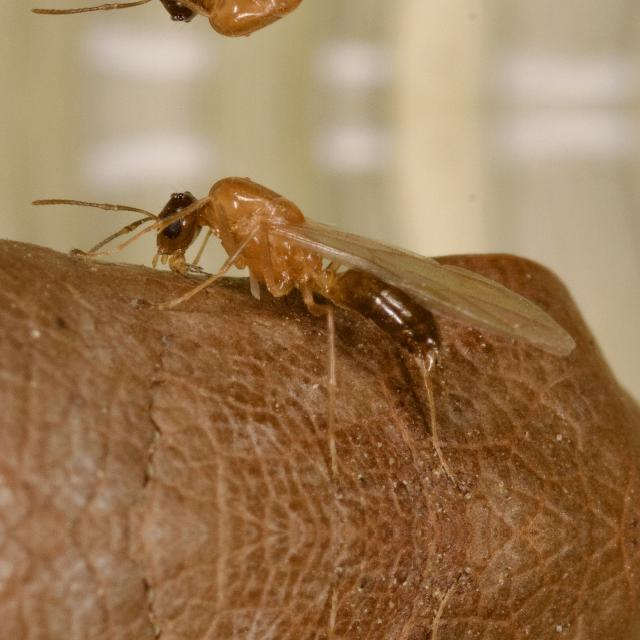Camponotus: (57, 132, 639, 466), (57, 0, 639, 78)
